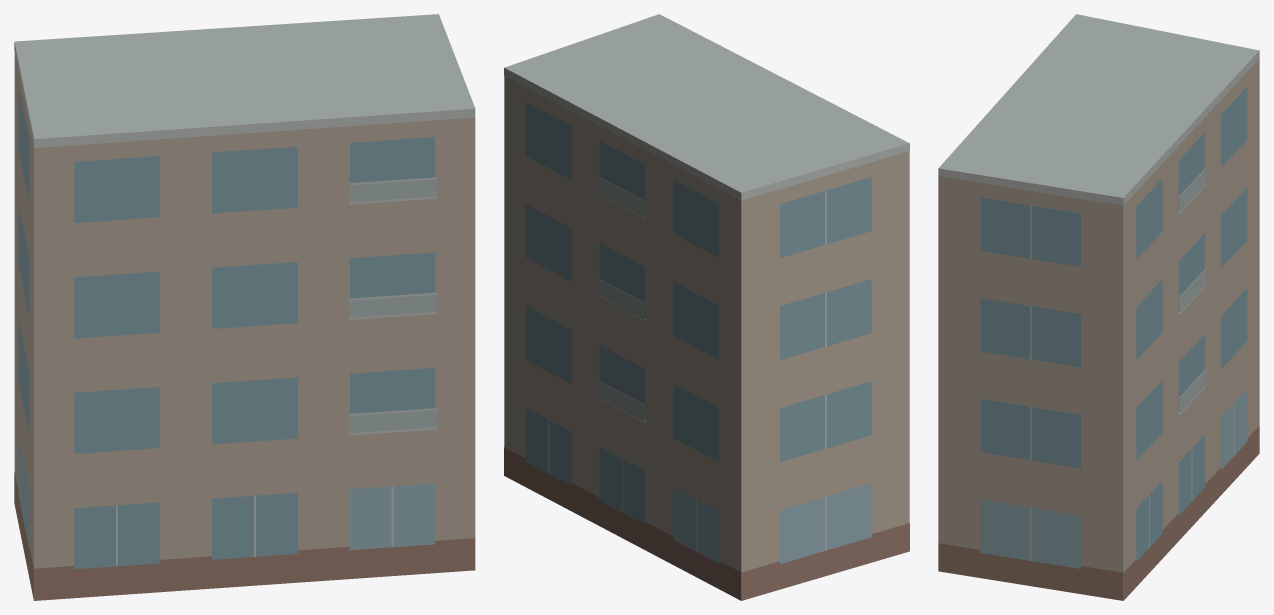
File: survey-upis-32734762.glb
3 renders of one model, left to right at view 1: azimuth 30°, elevation 25°; view 2: azimuth 150°, elevation 25°; view 3: azimuth 270°, elevation 25°, orthographic. The views are drawn at different scales.
Parts seen in each view (by area): view 1: survey-upis-32734762.tmp; view 2: survey-upis-32734762.tmp; view 3: survey-upis-32734762.tmp.
Part boxes in pixels (x1,y1,x2,y2): survey-upis-32734762.tmp: (14,14,475,600); survey-upis-32734762.tmp: (504,14,909,600); survey-upis-32734762.tmp: (938,14,1259,600).
Bounding box in the file's own units: 12.44 × 12.7 × 9.19.
